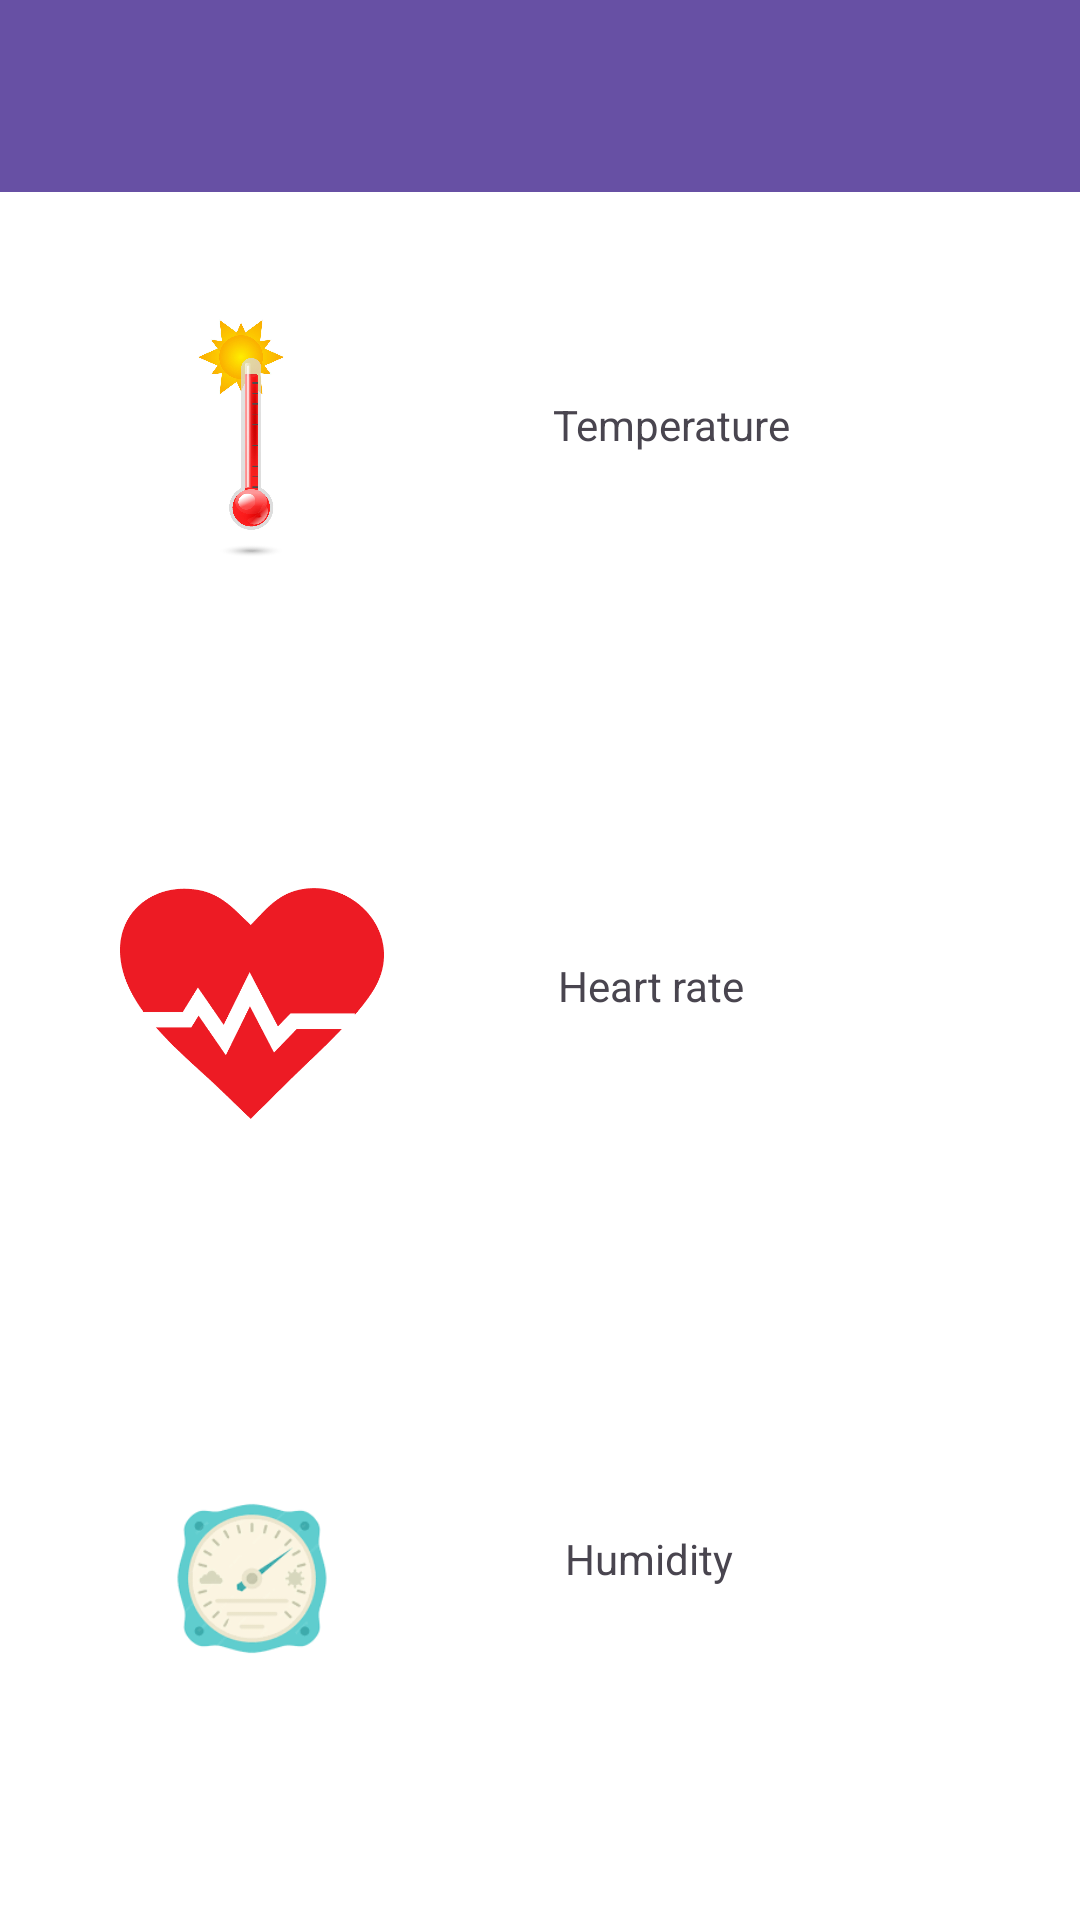

Icon bounding boxes for this 1080w x 1920h phone screenshot, format detection(x1, y1, x2, y2):
heartratesensor: detection(120, 888, 384, 1119)
